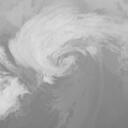cyclone: (10, 9, 79, 78)
